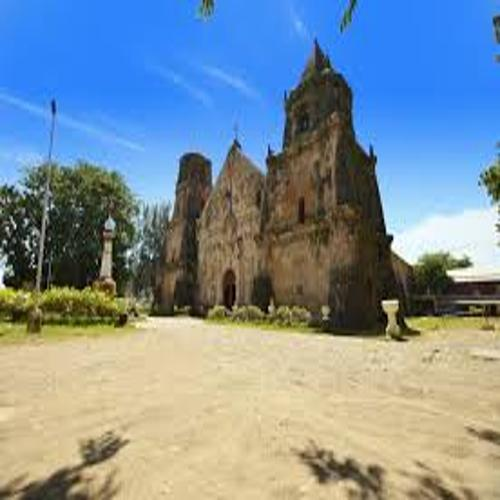Miagao Church: (151, 37, 404, 344)
